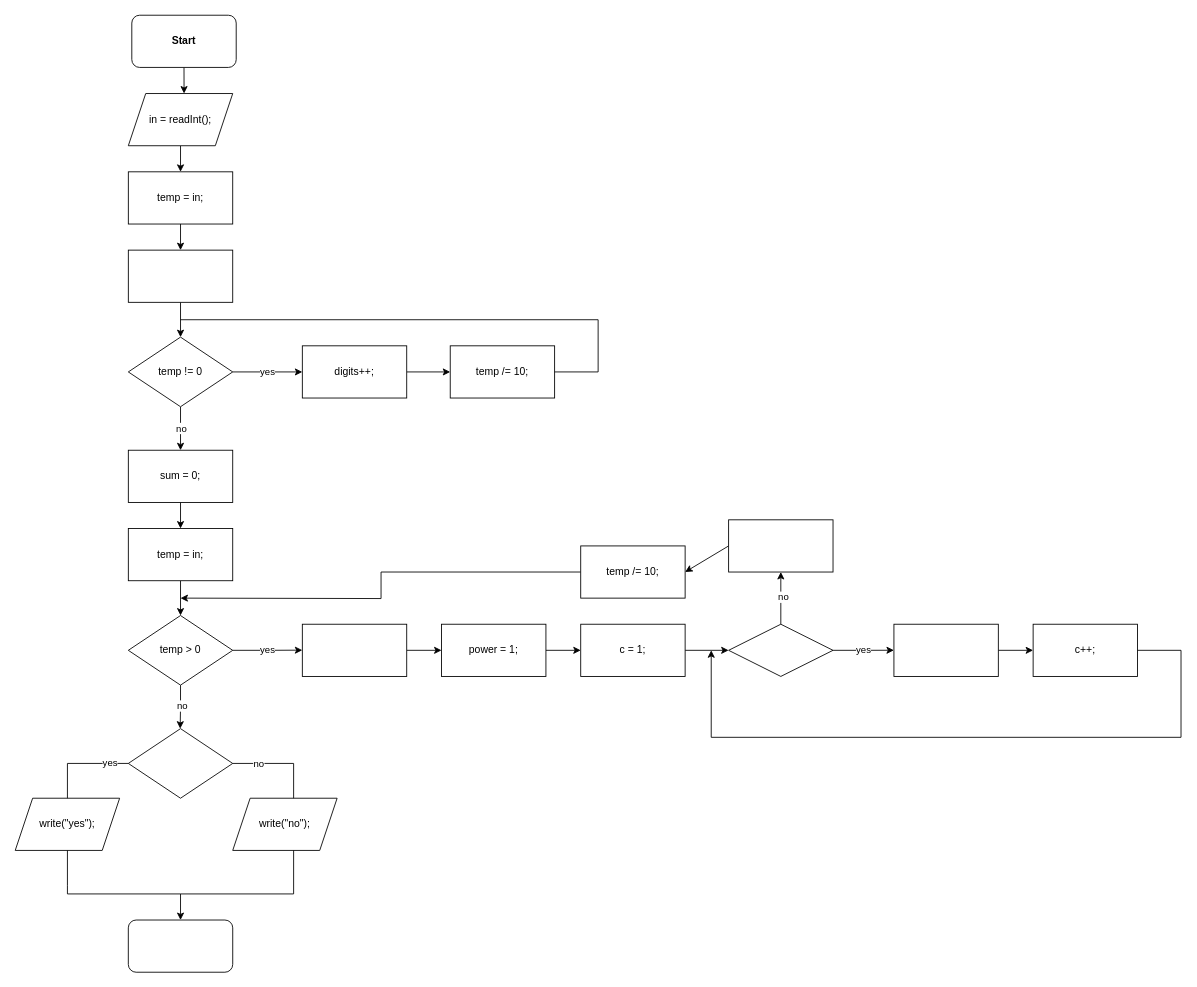
The diagram is 1197 pixels wide and 987 high, and some of its shapes have lost their labels. The centre of each missing label's shape, as x and y in pixels:
c <= digits: point (780, 649)
digit = temp % 10;: point (354, 649)
digits = 0;: point (180, 275)
End: point (180, 945)
power *= digit;: point (945, 649)
sum += power;: point (780, 545)
sum == in: point (180, 763)
